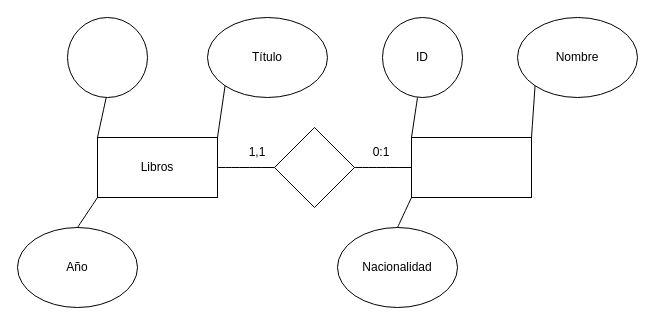
Image size: 655x325. Some labels were removed from this diagram. The centre of each missing label's shape, as x and y in pixels:
"Autores" belongs at (x=471, y=167).
"Escribir" belongs at (x=314, y=167).
"ISBN" belongs at (x=107, y=57).
